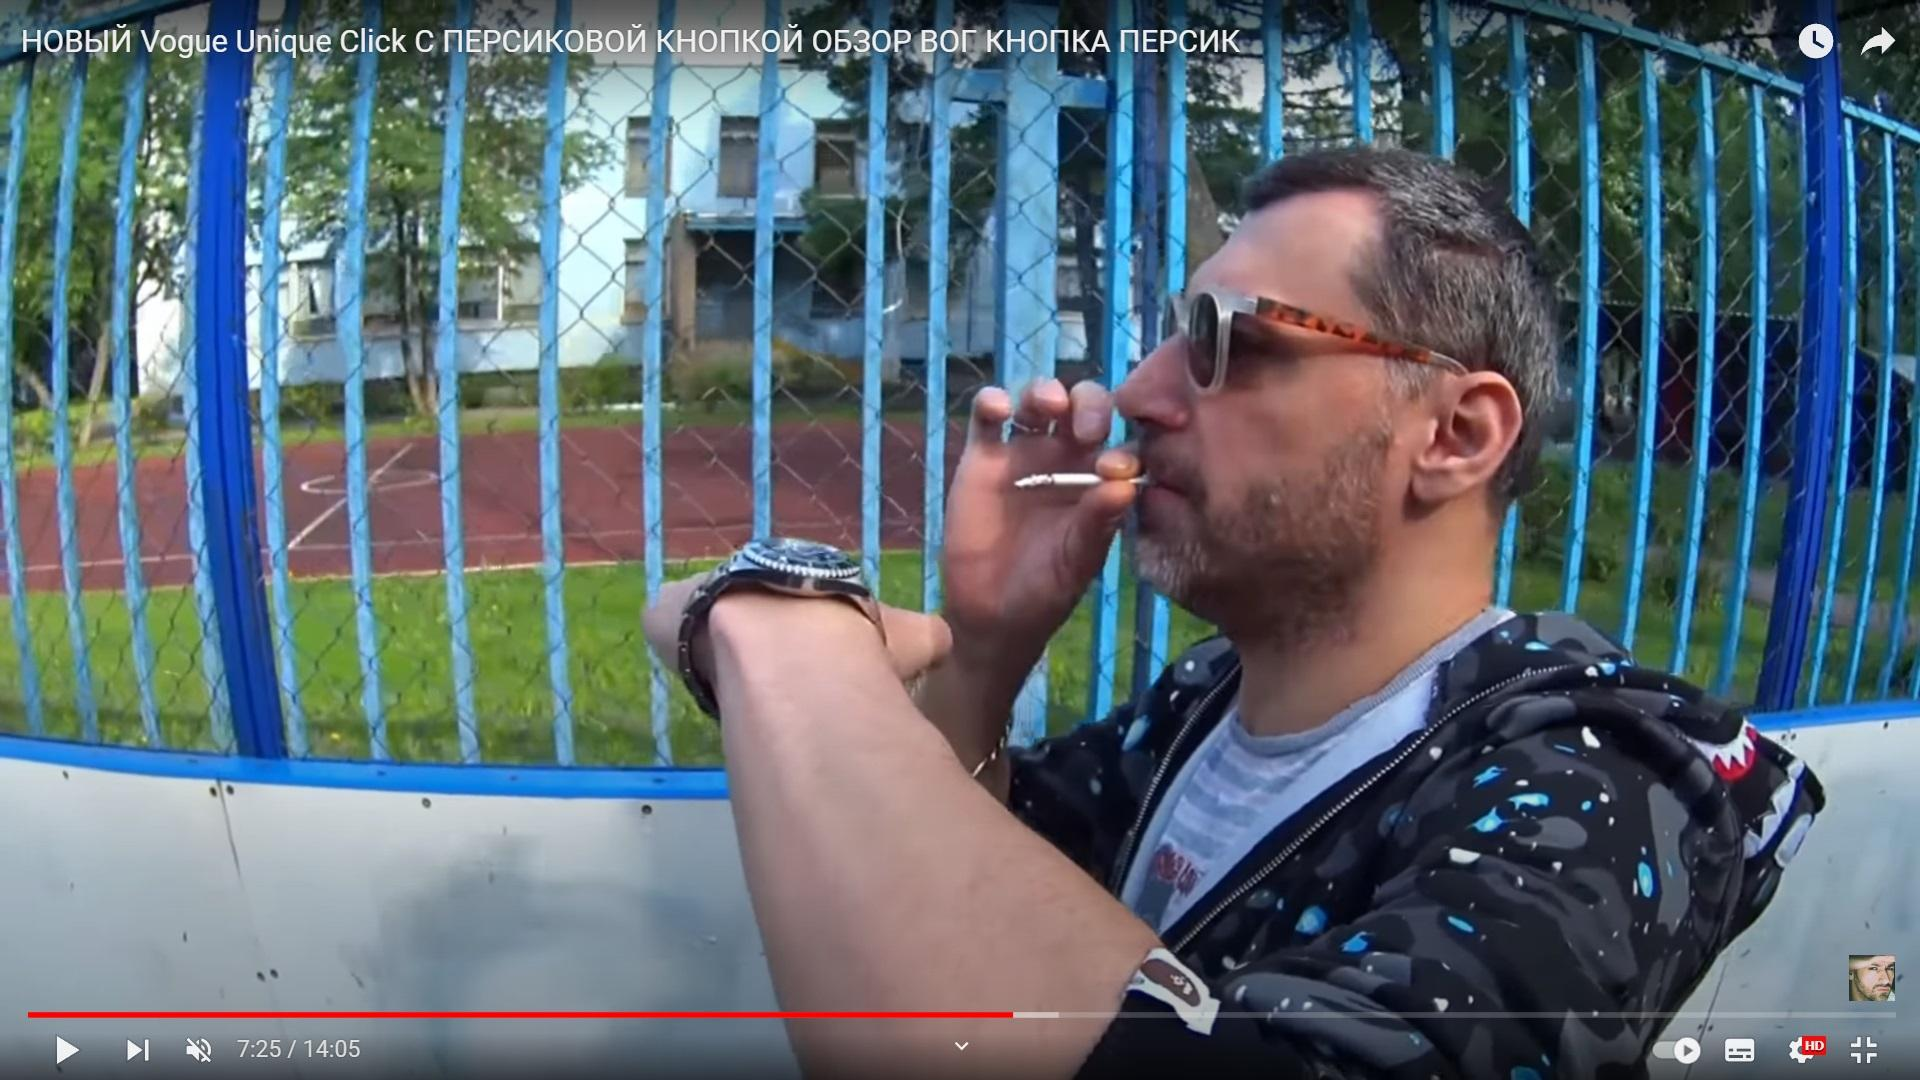cigarette: (1014, 469, 1163, 492)
